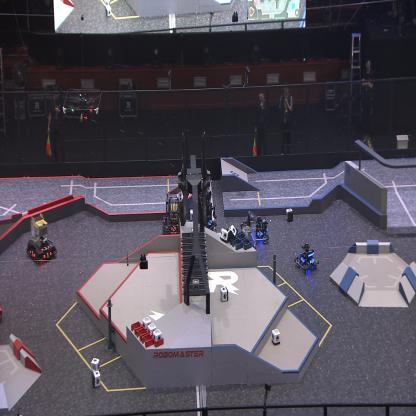car: (26, 213, 56, 263), (190, 186, 218, 235), (162, 191, 184, 238), (240, 211, 258, 253), (294, 243, 318, 273), (250, 213, 269, 246)
